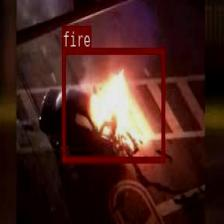fire: (62, 47, 164, 162)
